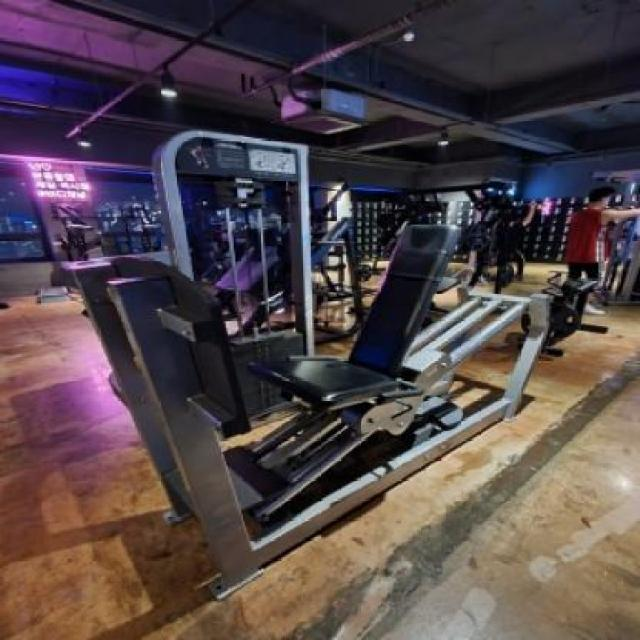leg press: (63, 122, 603, 590)
